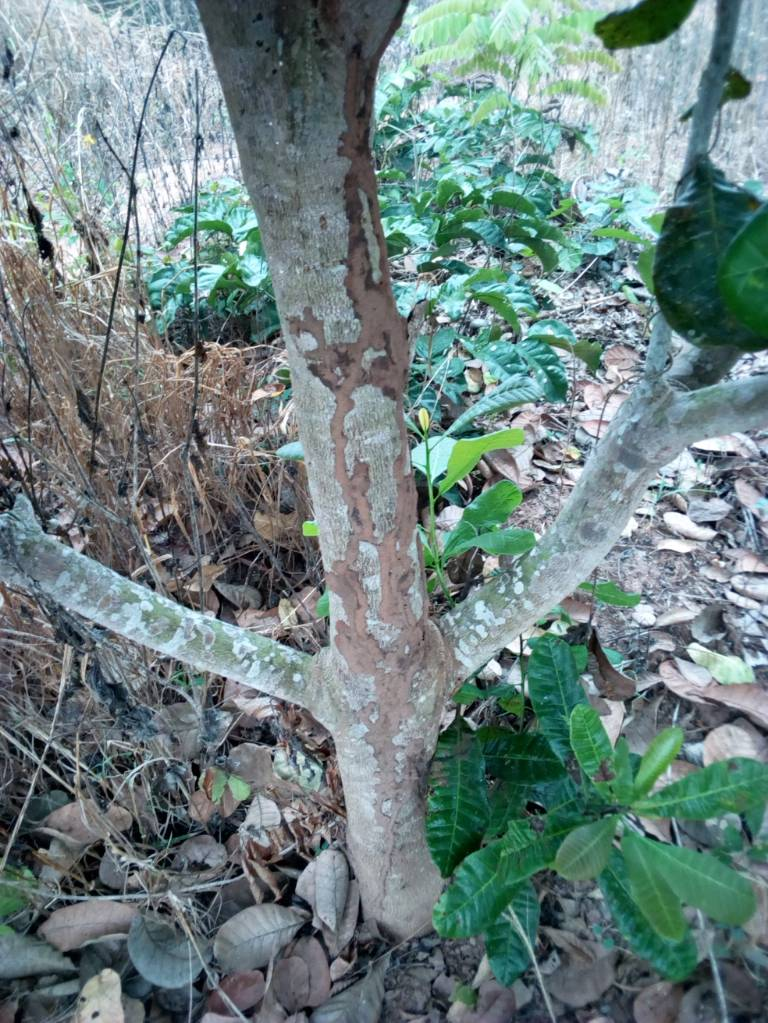Termites: (319, 46, 452, 855)
